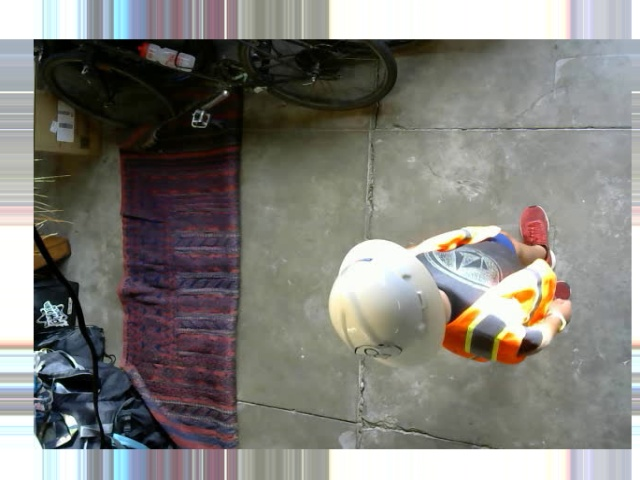eight: (352, 340, 401, 357)
